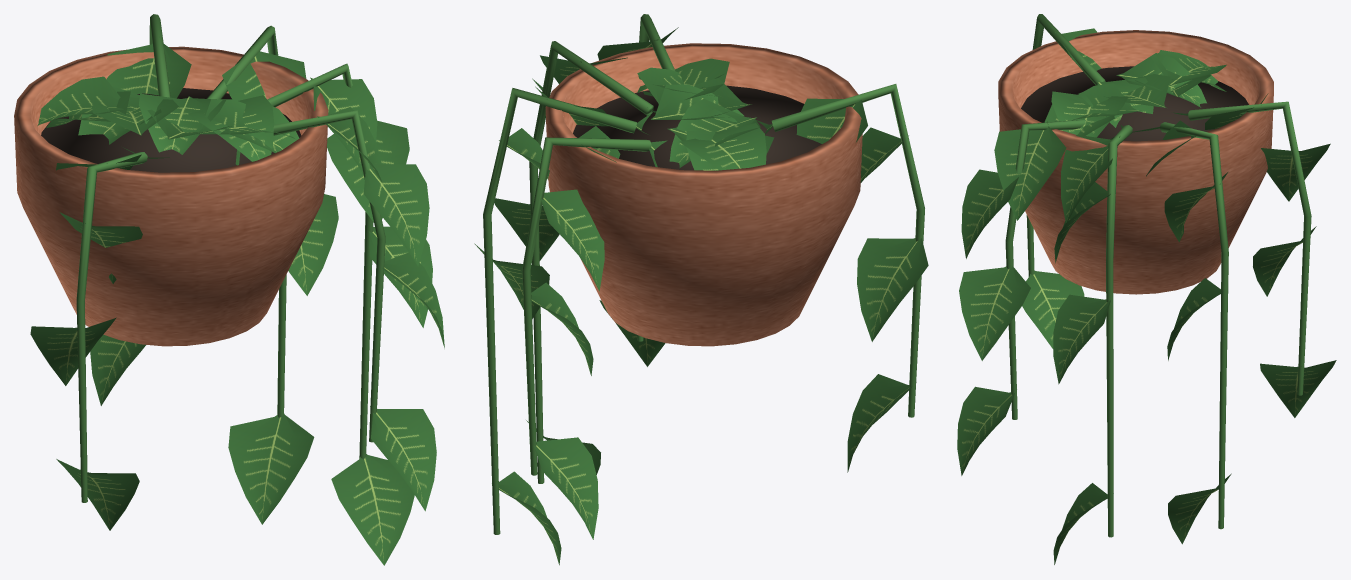
File: obj_plant_trailing_pothos_shelf.glb
3 renders of one model, left to right at view 1: azimuth 30°, elevation 25°; view 2: azimuth 150°, elevation 25°; view 3: azimuth 270°, elevation 25°, orthographic. The views are drawn at different scales.
Visible parts, largest first — view 1: obj_plant_trailing_pothos_shelf; view 2: obj_plant_trailing_pothos_shelf; view 3: obj_plant_trailing_pothos_shelf.
Boxes of the visible parts, <box> form: obj_plant_trailing_pothos_shelf: <box>14,14,444,565</box>; obj_plant_trailing_pothos_shelf: <box>474,14,928,565</box>; obj_plant_trailing_pothos_shelf: <box>957,14,1336,564</box>.
Bounding box in the file's own units: 0.3486 × 0.3861 × 0.3145.
4 materials, 2 textured.
